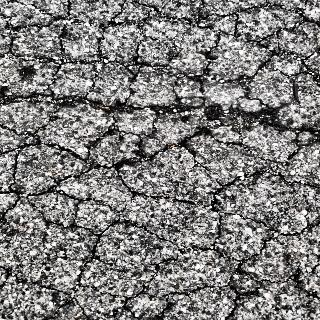alligator-crack: (13, 8, 317, 318)
